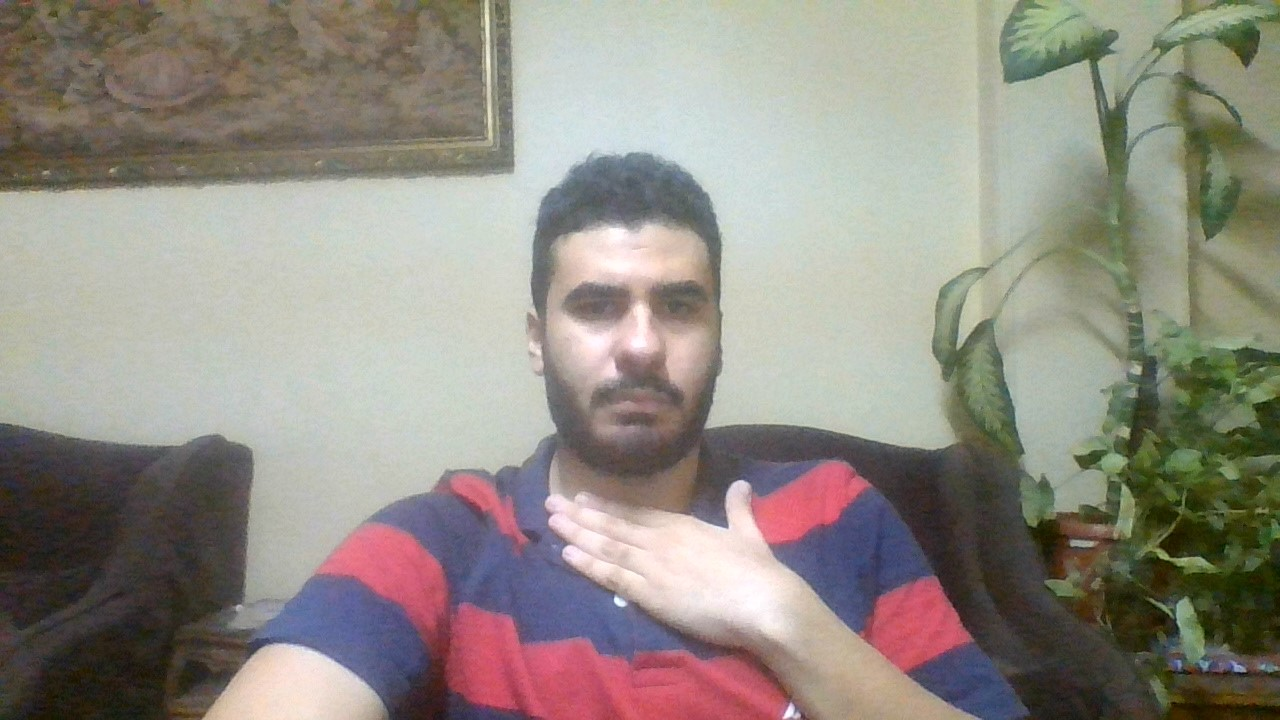please: (530, 483, 822, 648)
